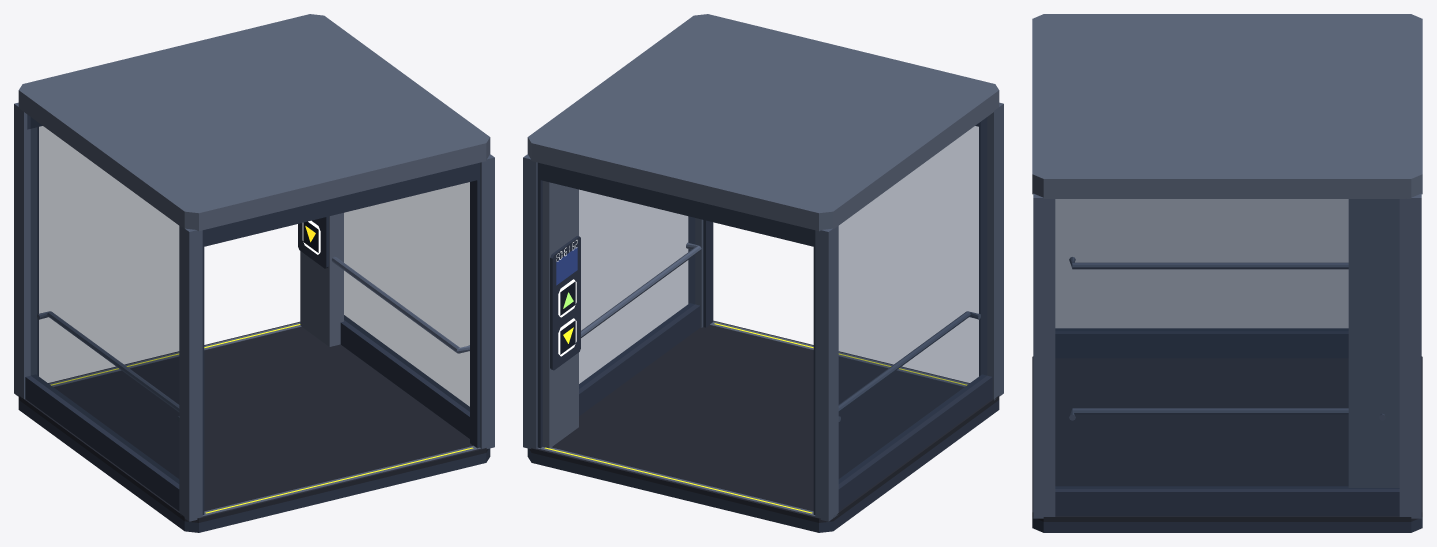
Rendered from off_elevator_cab.glb.
3 renders of one model, left to right at view 1: azimuth 30°, elevation 25°; view 2: azimuth 150°, elevation 25°; view 3: azimuth 270°, elevation 25°, orthographic. The views are drawn at different scales.
Visible parts, largest first — view 1: control_spine, panoramic_glass, deck.001, control_face, corner_pier, direction_key; view 2: control_spine, panoramic_glass, deck.001, control_face, corner_pier, direction_key, button_cap; view 3: panoramic_glass, control_spine, deck.001, control_face, corner_pier.
Boxes of the visible parts, x1,y1,x2,y2 form: control_spine: (18, 14, 490, 516); panoramic_glass: (31, 117, 469, 483); deck.001: (18, 321, 488, 522); control_face: (18, 114, 490, 532); corner_pier: (14, 102, 494, 521); direction_key: (51, 226, 473, 513); control_spine: (527, 14, 999, 516); panoramic_glass: (579, 117, 986, 483); deck.001: (529, 320, 999, 522); control_face: (527, 122, 999, 532); corner_pier: (523, 102, 1003, 521); direction_key: (544, 323, 966, 513); button_cap: (560, 281, 575, 354); panoramic_glass: (1055, 199, 1399, 488); control_spine: (1032, 14, 1422, 487); deck.001: (1032, 356, 1422, 521); control_face: (1032, 328, 1422, 532); corner_pier: (1033, 193, 1421, 518).
Size of the model in its own units: 3.2 by 3.2 by 3.2.
